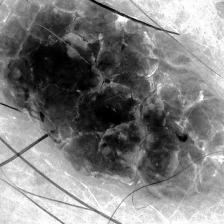Benign Marking or Mole: (0, 0, 224, 197)
